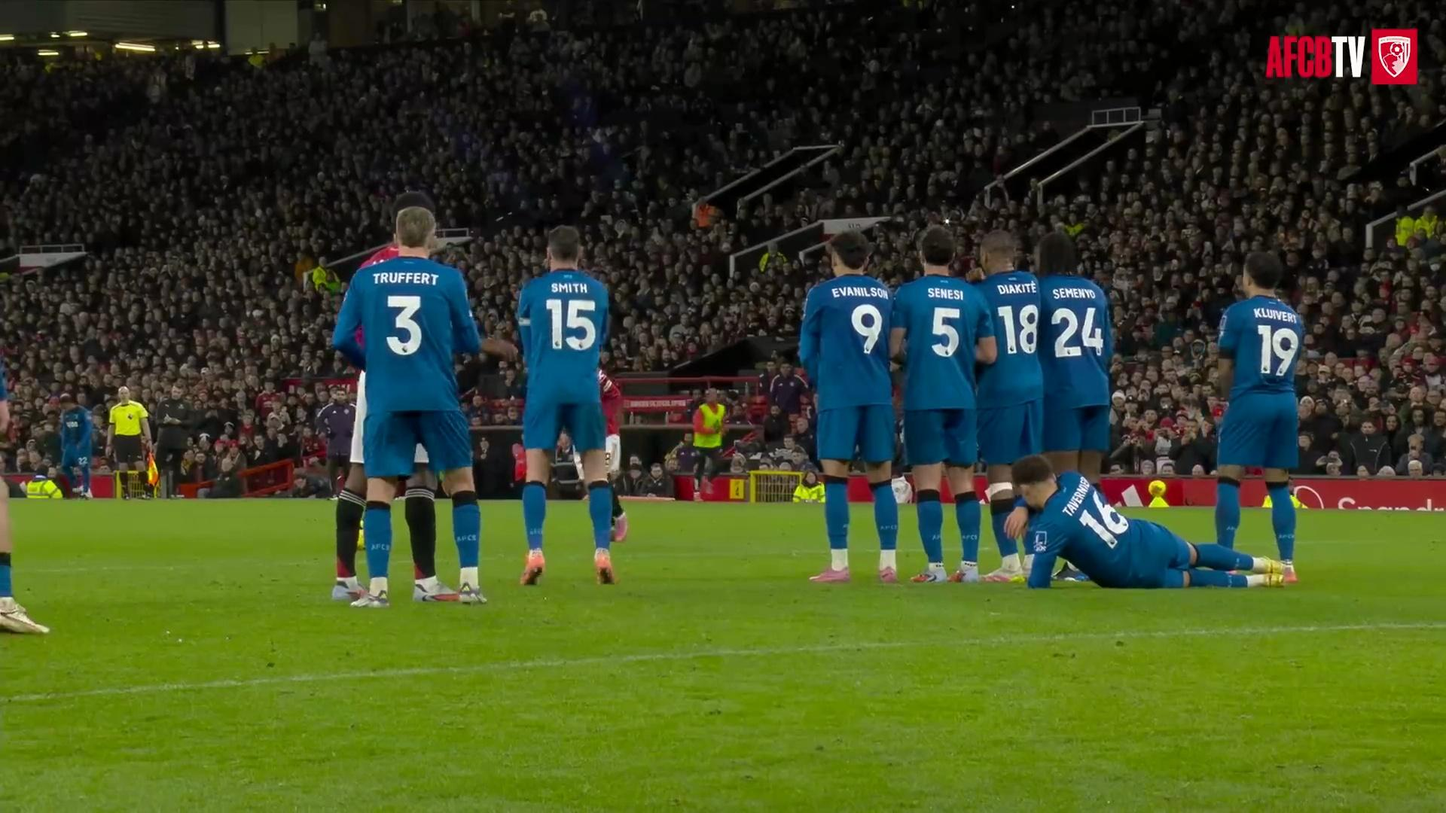player: (333, 206, 514, 607), (890, 226, 996, 582), (1012, 455, 1283, 588), (517, 226, 615, 584), (801, 231, 898, 582), (1215, 251, 1302, 582), (975, 230, 1043, 581), (1035, 231, 1112, 483), (332, 370, 367, 600), (0, 487, 49, 634), (597, 370, 627, 541), (691, 387, 728, 501), (59, 393, 91, 498)
referee: (107, 387, 150, 473)
